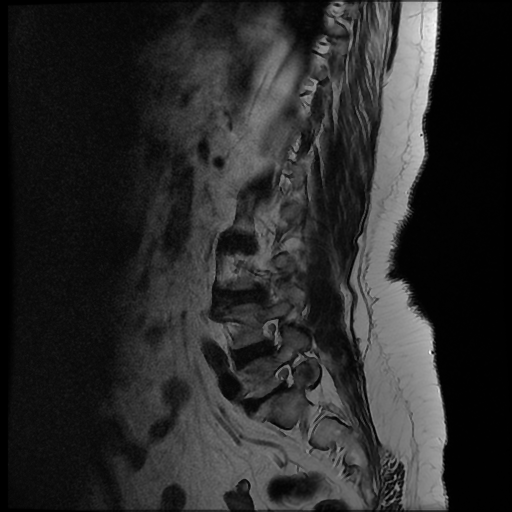LFS0: (252, 307, 293, 359), (264, 355, 304, 403)
